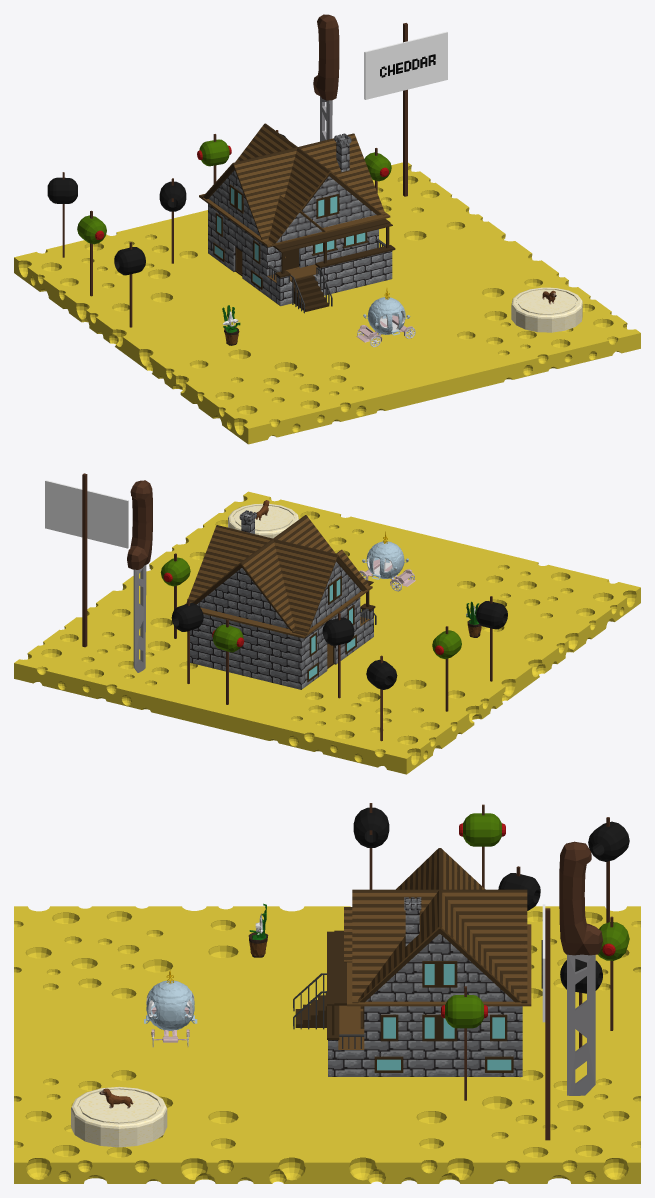
The picture shows the model from 3 angles, top to bottom: view 1: azimuth 30°, elevation 25°; view 2: azimuth 150°, elevation 25°; view 3: azimuth 270°, elevation 25°; orthographic projection. The views are drawn at different scales.
Visible parts, largest first — view 1: Cube.022, Cube.586, Cube.023, Cylinder.016, Cube.024, VEHICLES_FANTASY_CARRIAGE, Sphere.017, Sphere.016, Sphere.020, Sphere.018, Sphere.022, Sphere.019; view 2: Cube.022, Cube.586, Cube.023, Cube.024, VEHICLES_FANTASY_CARRIAGE, Cylinder.016, Sphere.017, Sphere.020, Sphere.021, Sphere.016, Sphere.018, Sphere.022 (+1 smaller); view 3: Cube.022, Cube.586, Cube.024, Cylinder.016, VEHICLES_FANTASY_CARRIAGE, Cube.023, Sphere.019, Sphere.016, Sphere.018, Sphere.017, Sphere.022, Sphere.020 (+2 smaller).
Boxes of the visible parts, left/top/right/bottom form: Cube.022: left=14, top=162, right=640, bottom=444; Cube.586: left=199, top=123, right=395, bottom=313; Cube.023: left=364, top=23, right=447, bottom=196; Cylinder.016: left=511, top=287, right=582, bottom=332; Cube.024: left=313, top=14, right=339, bottom=141; VEHICLES_FANTASY_CARRIAGE: left=356, top=288, right=415, bottom=347; Sphere.017: left=114, top=242, right=145, bottom=327; Sphere.016: left=47, top=172, right=77, bottom=257; Sphere.020: left=159, top=178, right=186, bottom=263; Sphere.018: left=77, top=210, right=106, bottom=296; Sphere.022: left=197, top=134, right=231, bottom=183; Sphere.019: left=364, top=148, right=391, bottom=192; Cube.022: left=14, top=491, right=640, bottom=774; Cube.586: left=184, top=510, right=376, bottom=689; Cube.023: left=45, top=473, right=128, bottom=647; Cube.024: left=127, top=480, right=152, bottom=672; VEHICLES_FANTASY_CARRIAGE: left=359, top=531, right=415, bottom=591; Cylinder.016: left=228, top=503, right=298, bottom=538; Sphere.017: left=476, top=596, right=507, bottom=681; Sphere.020: left=322, top=612, right=354, bottom=698; Sphere.021: left=171, top=598, right=203, bottom=683; Sphere.016: left=366, top=655, right=397, bottom=741; Sphere.018: left=432, top=626, right=461, bottom=711; Sphere.022: left=212, top=619, right=244, bottom=704; Cube.022: left=14, top=906, right=640, bottom=1183; Cube.586: left=293, top=848, right=531, bottom=1076; Cube.024: left=559, top=841, right=602, bottom=1095; Cylinder.016: left=71, top=1086, right=167, bottom=1147; VEHICLES_FANTASY_CARRIAGE: left=144, top=968, right=197, bottom=1047; Cube.023: left=541, top=904, right=550, bottom=1140; Sphere.019: left=441, top=986, right=487, bottom=1100; Sphere.016: left=588, top=817, right=629, bottom=922; Sphere.018: left=459, top=804, right=505, bottom=888; Sphere.017: left=353, top=803, right=389, bottom=889; Sphere.022: left=598, top=916, right=629, bottom=1030; Sphere.020: left=498, top=866, right=540, bottom=910.
Bounding box in the file's own units: 3917 × 2108 × 4000.
Materials: 30 (4 with a texture image).
